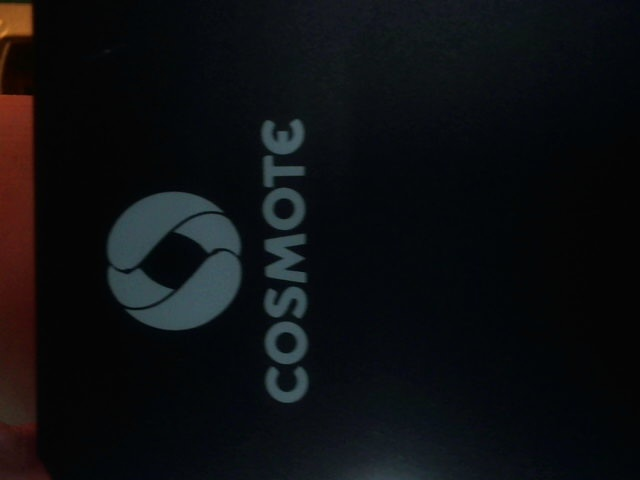AU_COSMOTE: (96, 112, 322, 411)
